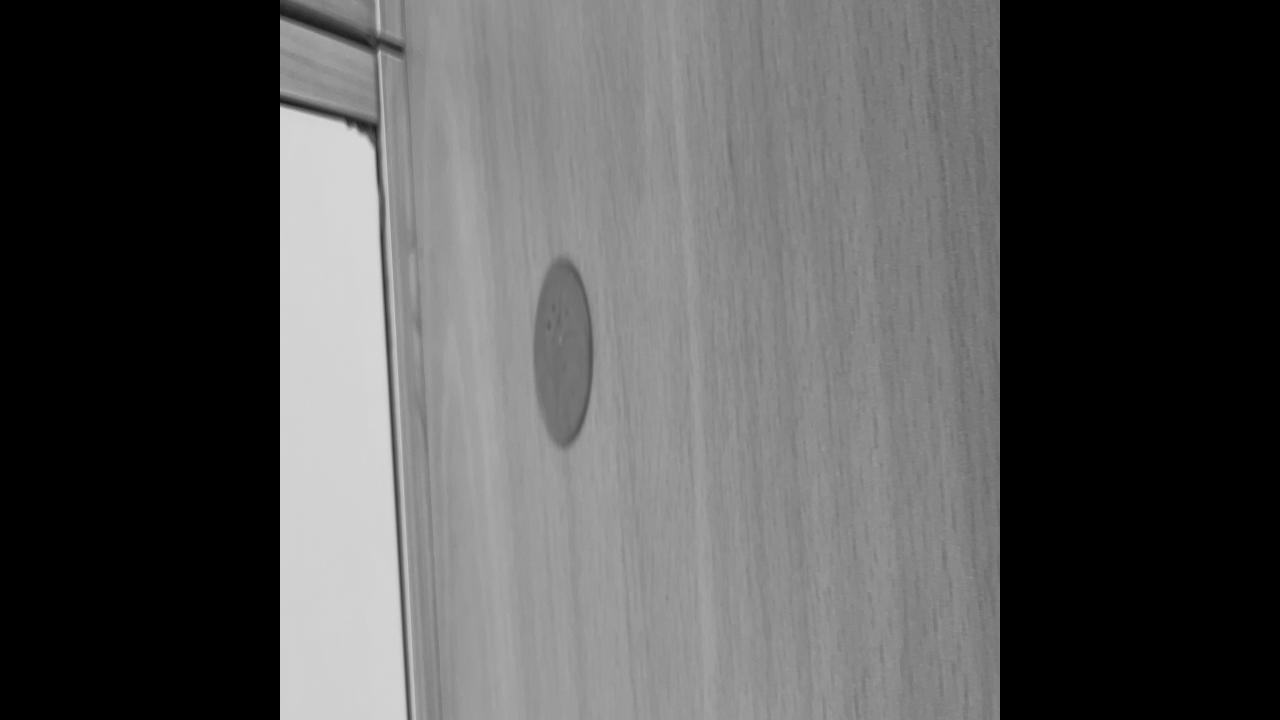coin: (530, 254, 594, 450)
